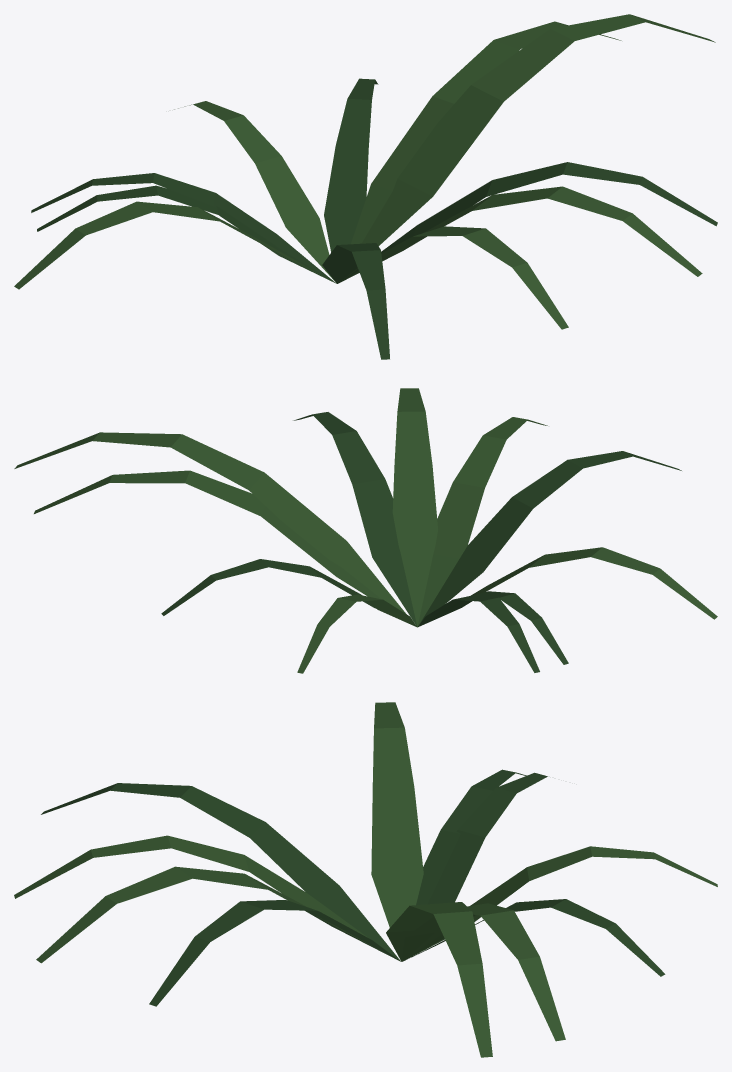
Rendered from detail_fern.glb.
3 renders of one model, top to bottom at view 1: azimuth 30°, elevation 25°; view 2: azimuth 150°, elevation 25°; view 3: azimuth 270°, elevation 25°, orthographic. The views are drawn at different scales.
Parts seen in each view (by area): view 1: Fern; view 2: Fern; view 3: Fern.
Boxes of the visible parts, bbox=[...] form: Fern: bbox=[14, 14, 717, 359]; Fern: bbox=[14, 388, 717, 673]; Fern: bbox=[14, 702, 717, 1057].
Size of the model in its own units: 1.65 by 0.357 by 1.3.
